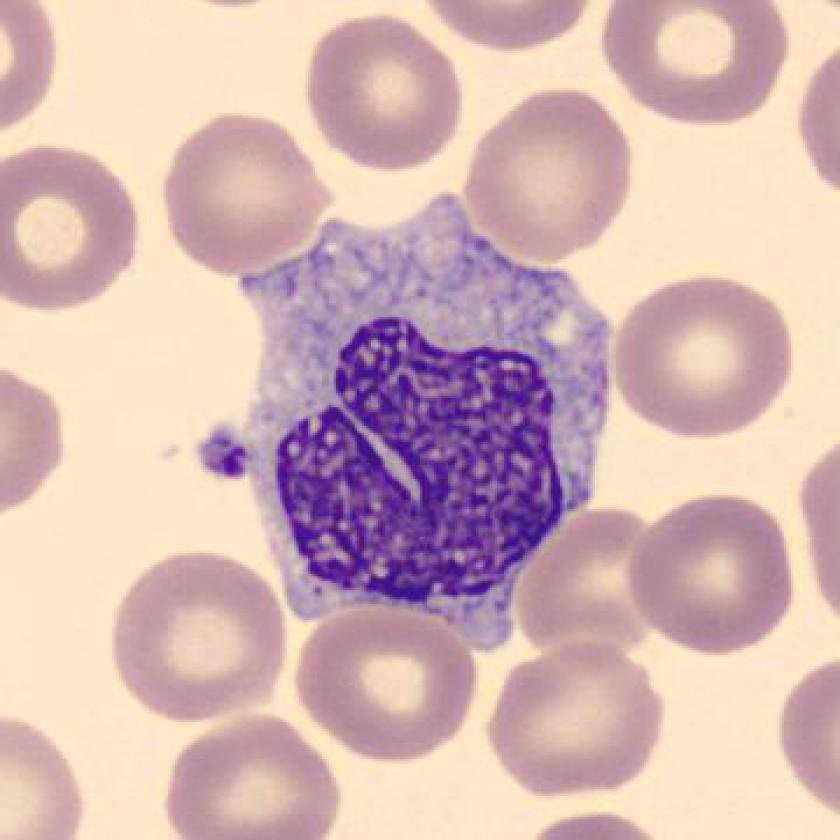monocyte: (195, 179, 643, 665)
